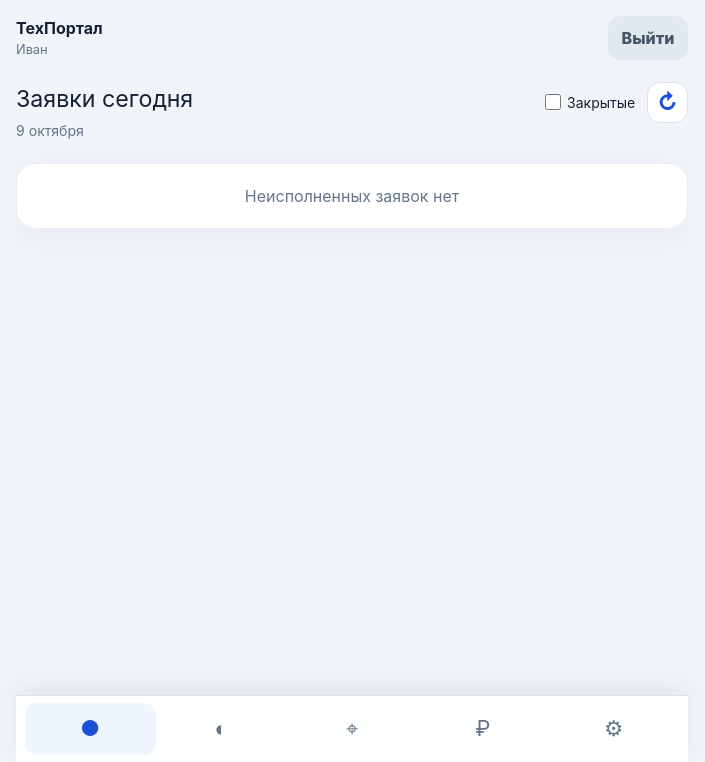
Test case: Фильтр закрытых заявок › по умолчанию скрывает исполненные заявки и сохраняет выбор
The width and height of the screenshot is (705, 762).
Expected: the text "Неисполненных заявок нет" is shown, [16, 163, 688, 229]
Click the checkbox labelled "Закрытые" at [553, 102], box [545, 94, 561, 110]
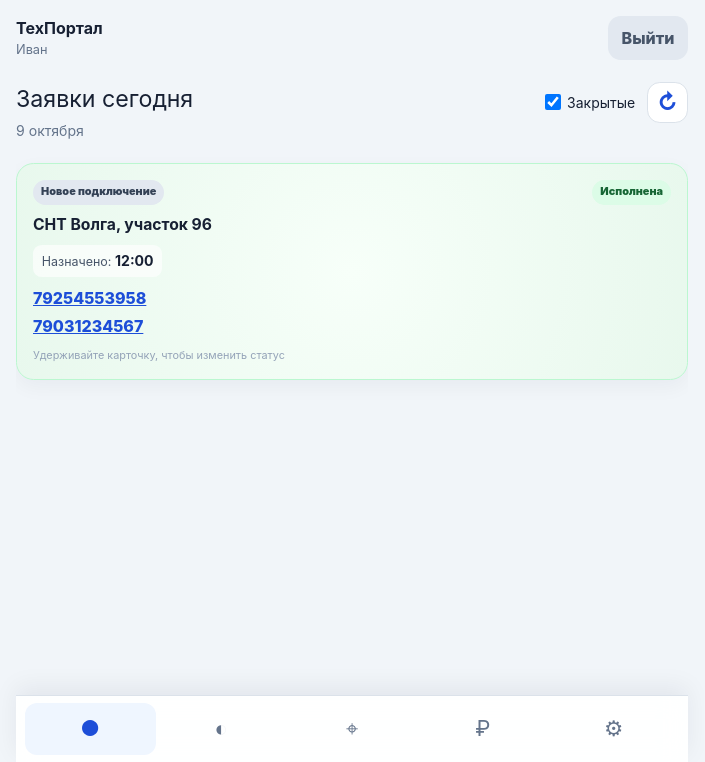
Now the text "СНТ Волга, участок 96" is shown, box [33, 215, 212, 234]
